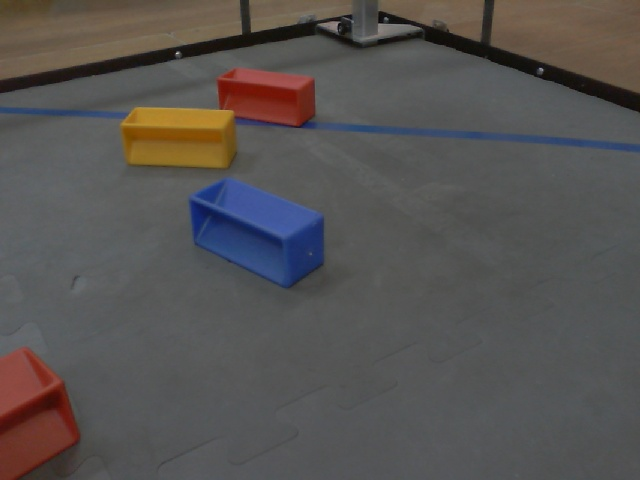BlueSample: (185, 174, 332, 289)
RedSample: (1, 340, 89, 479), (212, 63, 320, 129)
YellowSample: (117, 106, 244, 170)
